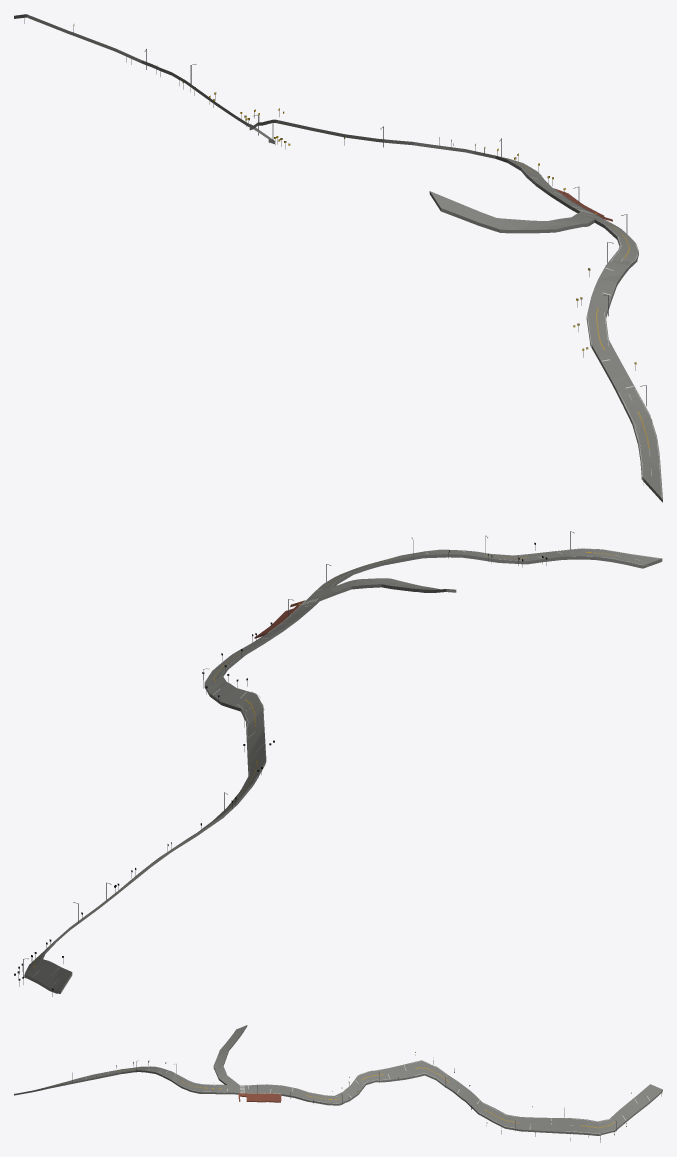
3 renders of one model, top to bottom at view 1: azimuth 30°, elevation 25°; view 2: azimuth 150°, elevation 25°; view 3: azimuth 270°, elevation 25°, orthographic. The views are drawn at different scales.
Size of the model in its own units: 67.77 by 65.77 by 421.
